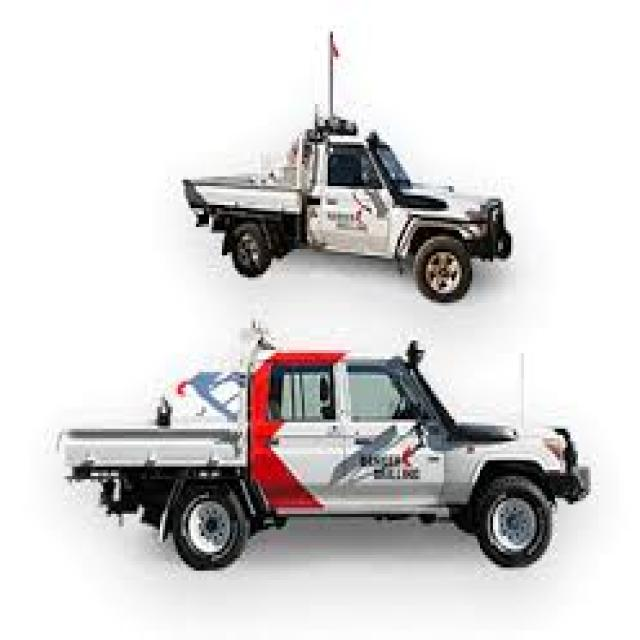light_vehicle: (23, 299, 594, 586), (170, 85, 555, 315)
